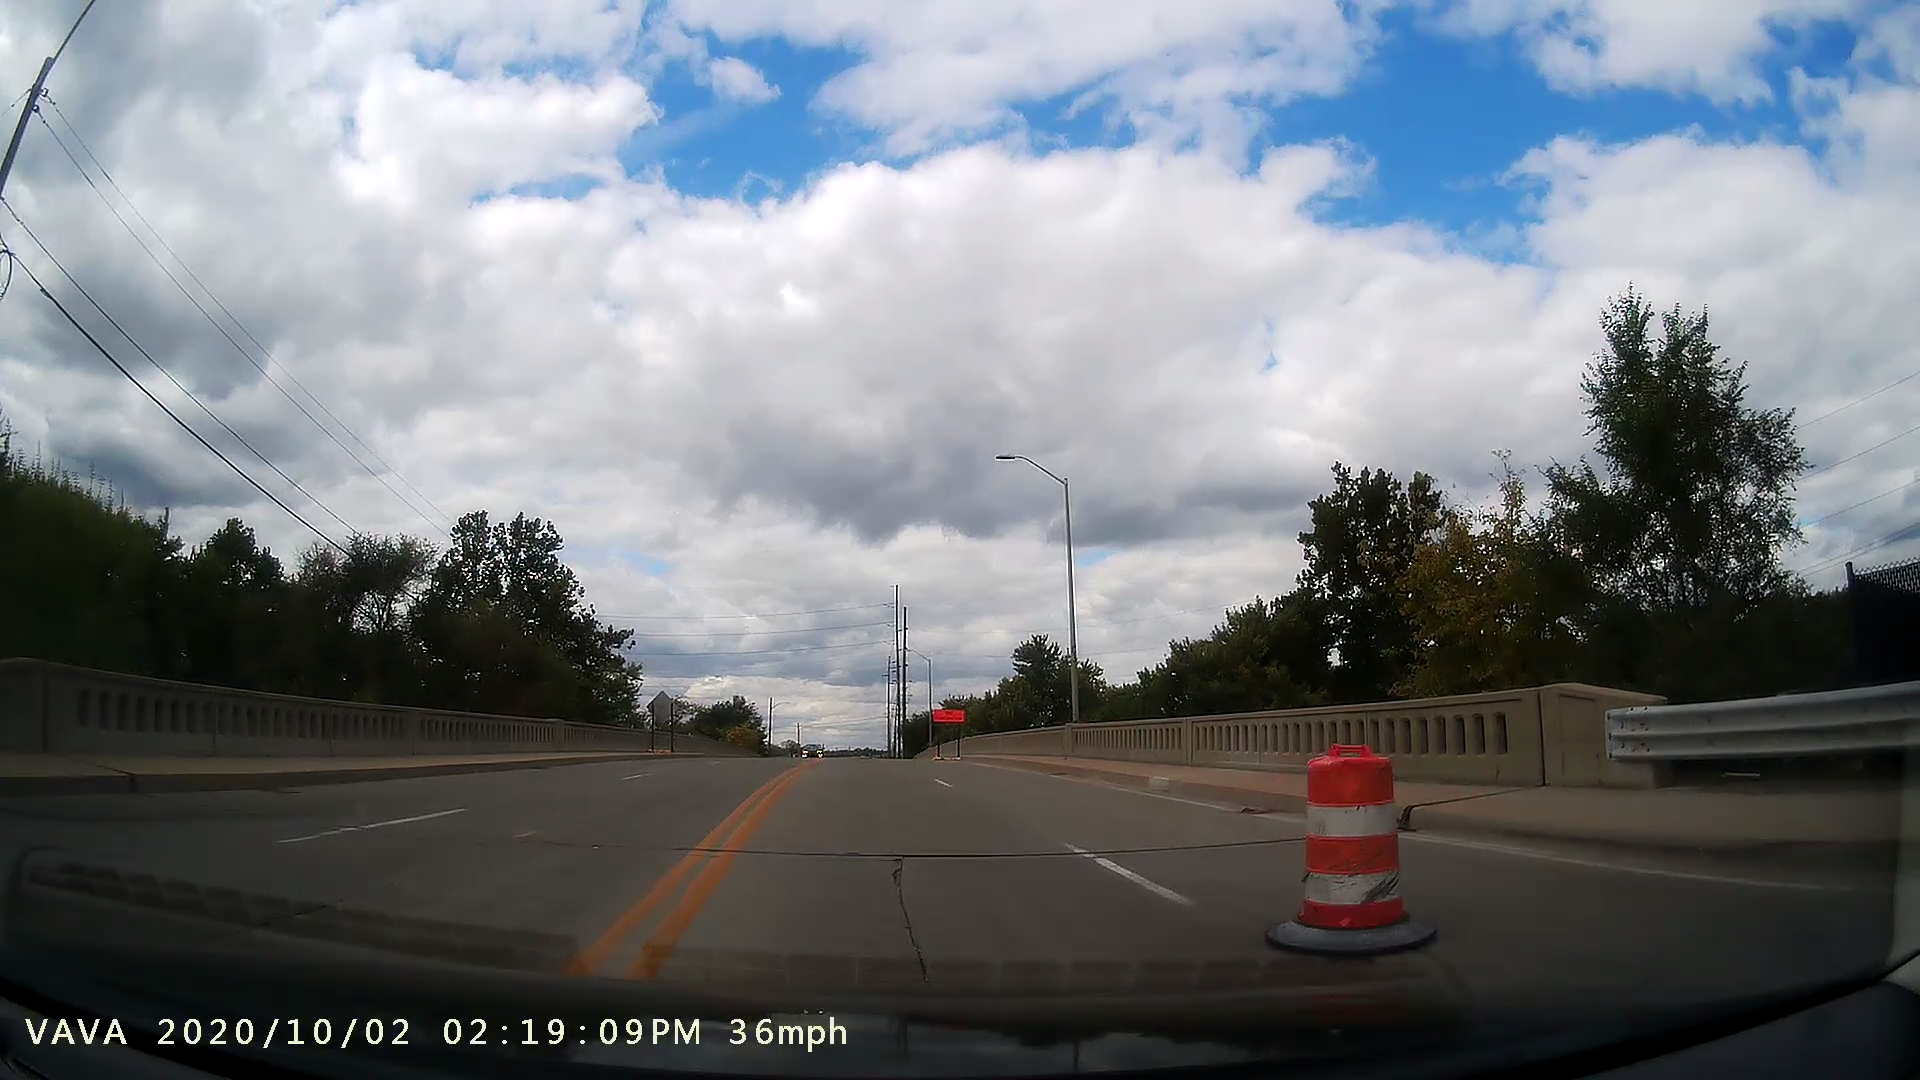const_barrel: (1259, 727, 1469, 967)
